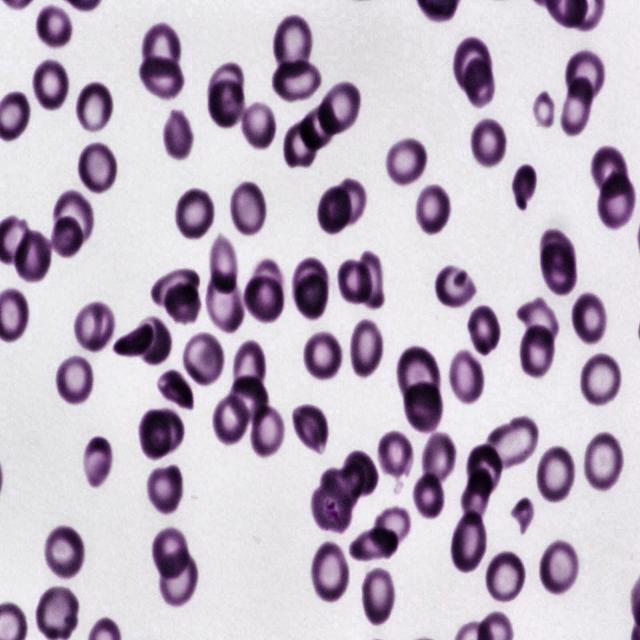red blood cell: (482, 413, 540, 473), (536, 227, 579, 296), (242, 260, 286, 326), (397, 344, 441, 410), (290, 254, 330, 324), (582, 429, 625, 494), (564, 48, 608, 110), (578, 352, 624, 411), (309, 538, 350, 604), (272, 13, 313, 79), (205, 270, 246, 336), (534, 443, 576, 506), (538, 537, 581, 597), (308, 476, 353, 533), (268, 56, 321, 104), (448, 510, 487, 575), (317, 82, 365, 134), (182, 330, 224, 388), (484, 550, 527, 606), (77, 141, 120, 197), (512, 300, 560, 350), (43, 523, 84, 581), (228, 179, 268, 238), (228, 339, 268, 398), (359, 564, 397, 626), (348, 316, 385, 379), (73, 300, 116, 354), (466, 115, 509, 169), (175, 185, 215, 242), (596, 173, 636, 230), (300, 333, 343, 386), (447, 348, 486, 406), (570, 290, 609, 347), (237, 98, 278, 152), (30, 55, 70, 110), (385, 137, 427, 189), (281, 116, 323, 168), (589, 146, 630, 199), (210, 387, 248, 444), (160, 546, 198, 603), (14, 228, 54, 282), (54, 188, 94, 242), (37, 587, 79, 638), (452, 39, 492, 92), (320, 463, 366, 509), (434, 260, 479, 307), (560, 76, 594, 138), (52, 354, 94, 404), (145, 462, 186, 513), (291, 402, 332, 453), (376, 428, 414, 483), (76, 80, 114, 135), (414, 182, 452, 236), (251, 403, 286, 461), (420, 432, 456, 488), (135, 315, 173, 368), (142, 23, 180, 76), (152, 526, 189, 580), (138, 54, 185, 96), (230, 374, 270, 422), (468, 442, 502, 498), (155, 370, 196, 416), (316, 184, 352, 236), (208, 80, 246, 129), (462, 464, 494, 522), (208, 62, 245, 112), (33, 2, 74, 47), (371, 506, 411, 552), (161, 107, 195, 161), (152, 267, 199, 306), (301, 101, 338, 150), (518, 326, 554, 376), (406, 382, 442, 432), (350, 525, 397, 562), (210, 233, 238, 294), (344, 450, 380, 497), (82, 437, 115, 488), (462, 56, 496, 105), (357, 250, 385, 309), (468, 304, 500, 354), (139, 408, 171, 458), (330, 178, 366, 222), (338, 258, 372, 304), (146, 411, 185, 451), (163, 281, 199, 323), (413, 470, 445, 516), (115, 322, 154, 357), (50, 216, 81, 257), (511, 163, 537, 211)
